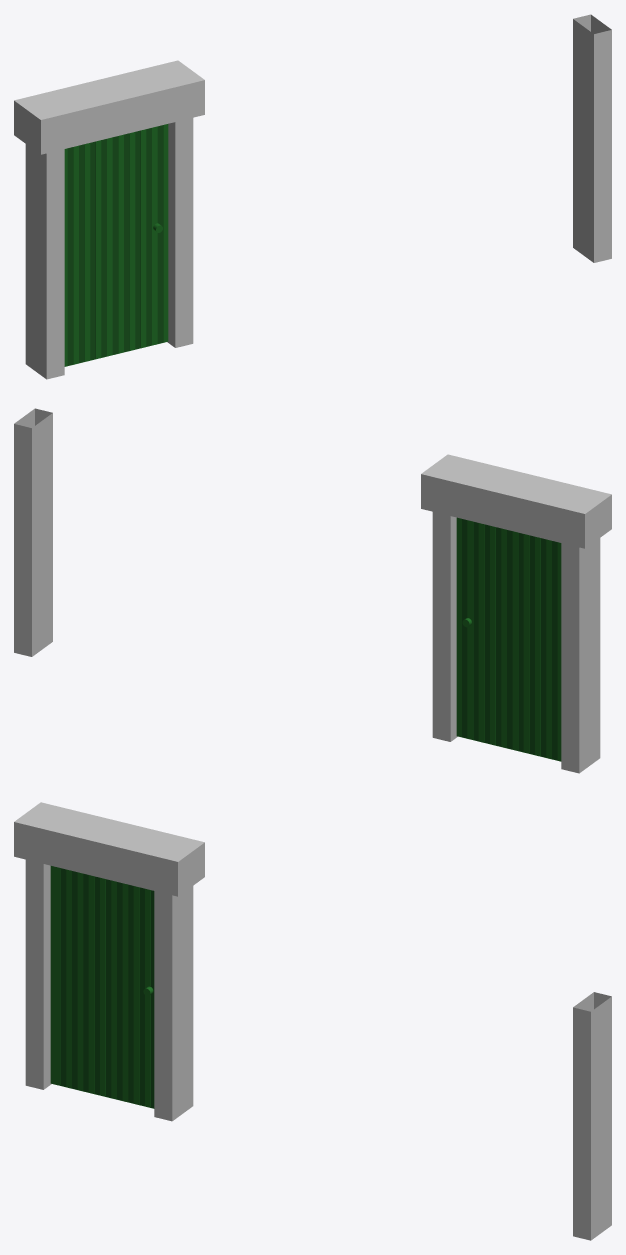
The model's file is DoorH&S+Separatorfbx.fbx.
3 renders of one model, top to bottom at view 1: azimuth 30°, elevation 25°; view 2: azimuth 150°, elevation 25°; view 3: azimuth 330°, elevation 25°, orthographic.
Visible parts, largest first — view 1: Cube, Cube.005, Cube.007; view 2: Cube, Cube.005, Cube.007; view 3: Cube, Cube.005, Cube.007.
Boxes of the visible parts, box(x1,y1,x2,y2) form: Cube: box(14, 60, 204, 379); Cube.005: box(64, 124, 168, 366); Cube.007: box(573, 14, 611, 262); Cube: box(421, 454, 611, 773); Cube.005: box(456, 517, 561, 761); Cube.007: box(14, 408, 52, 656); Cube: box(14, 802, 204, 1121); Cube.005: box(50, 866, 154, 1108); Cube.007: box(573, 992, 611, 1240).
Bounding box in the file's own units: 3447 × 1612 × 280.
